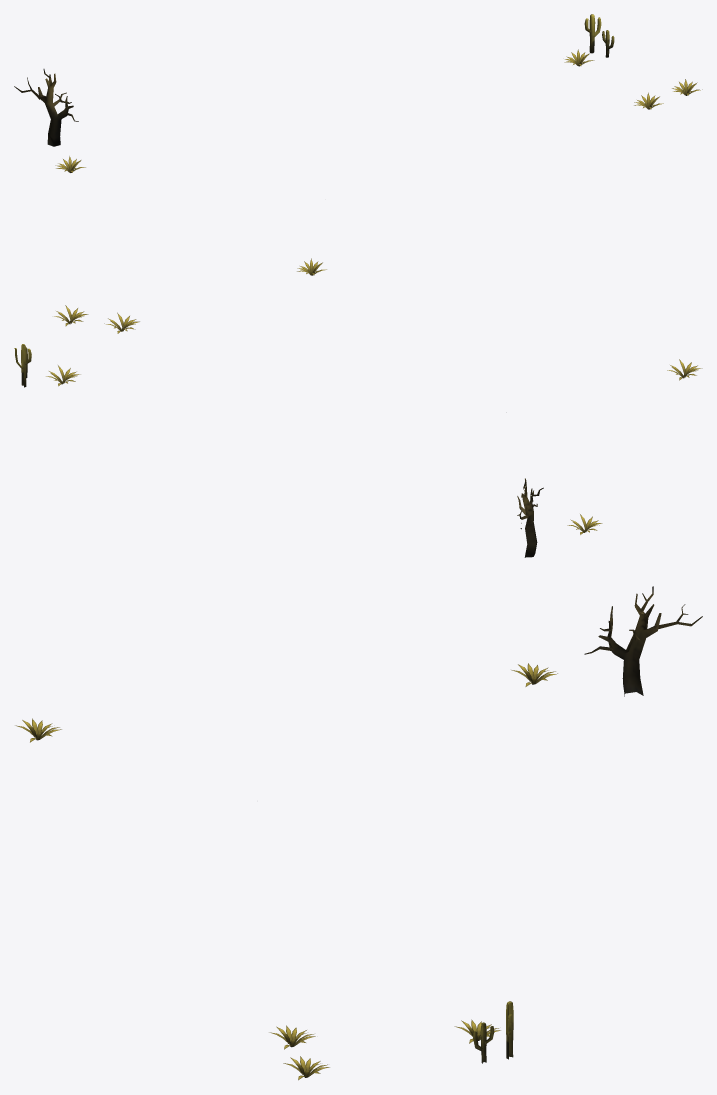
File: T5_desert_house_trees_env.fbx
3 renders of one model, top to bottom at view 1: azimuth 30°, elevation 25°; view 2: azimuth 150°, elevation 25°; view 3: azimuth 270°, elevation 25°, orthographic. The views are drawn at different scales.
Parts seen in each view (by area): view 1: desert_house; view 2: desert_house; view 3: desert_house.
Boxes of the visible parts, x1,y1,x2,y2 form: desert_house: (14,14,702,275); desert_house: (14,305,702,557); desert_house: (15,586,702,1080).
Size of the model in its own units: 215 by 25.91 by 150.
